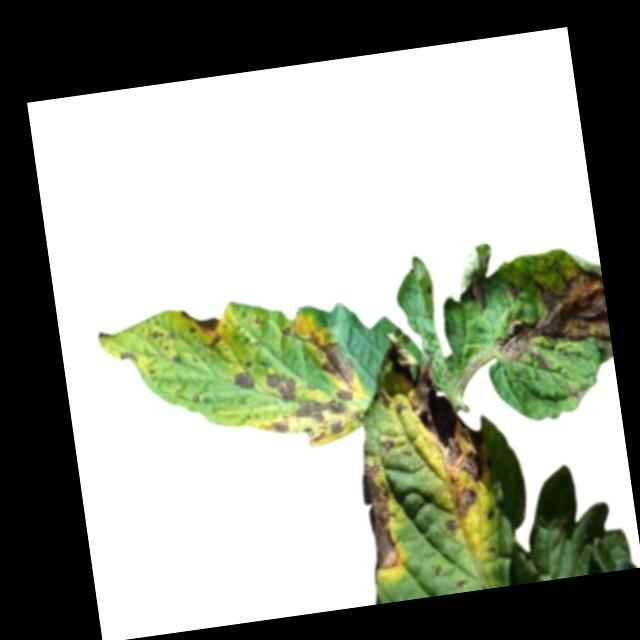Early_blight: (385, 323, 486, 491), (484, 261, 613, 377), (262, 387, 369, 453), (358, 460, 403, 570), (308, 327, 361, 393), (179, 305, 226, 352), (265, 367, 299, 405), (451, 485, 483, 520), (468, 266, 490, 313), (150, 326, 178, 353), (231, 368, 256, 390), (372, 382, 391, 410), (565, 379, 585, 401), (118, 346, 139, 364), (378, 435, 396, 453), (278, 320, 295, 339), (443, 517, 459, 534), (504, 280, 520, 297), (484, 506, 498, 518), (167, 353, 180, 365)
